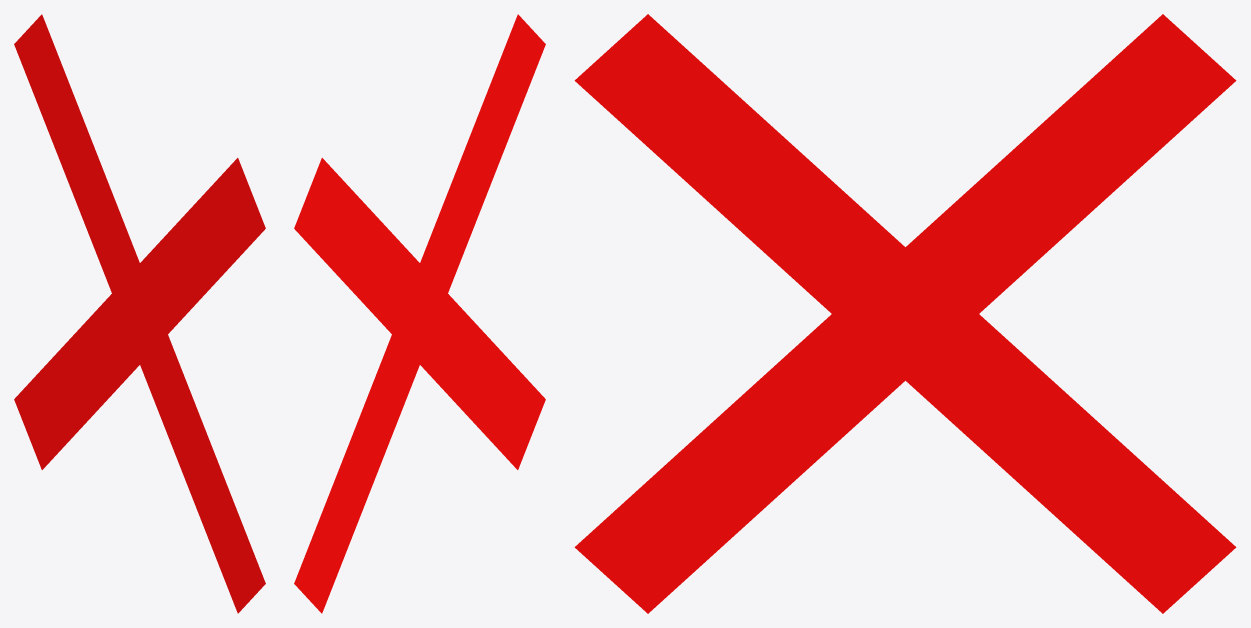
File: gizmo-d-x.glb
The picture shows the model from 3 angles, left to right: view 1: azimuth 30°, elevation 25°; view 2: azimuth 150°, elevation 25°; view 3: azimuth 270°, elevation 25°; orthographic projection. The views are drawn at different scales.
Parts seen in each view (by area): view 1: disable x; view 2: disable x; view 3: disable x.
Part boxes in pixels (<box>): disable x: <box>14,14,265,613</box>; disable x: <box>294,14,545,613</box>; disable x: <box>574,14,1236,613</box>.
Size of the model in its own units: 1.13e-08 by 0.2128 by 0.2128.
Materials: 1 (1 with a texture image).
